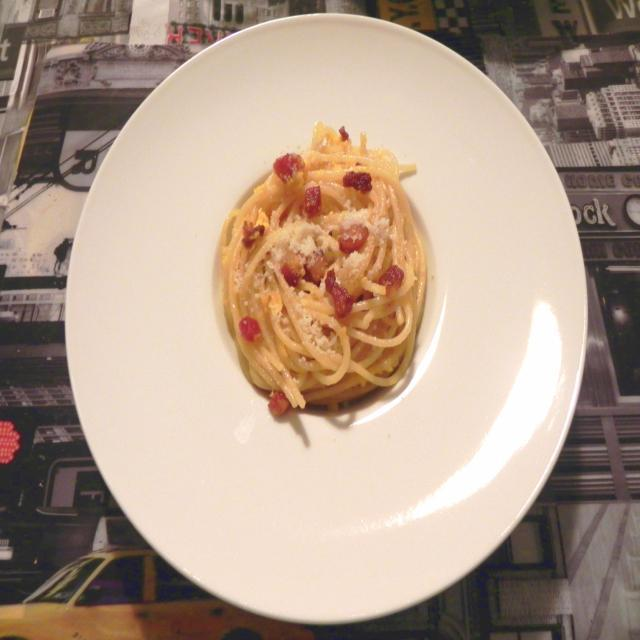Pasta with carbonara sauce: (205, 109, 472, 466)
